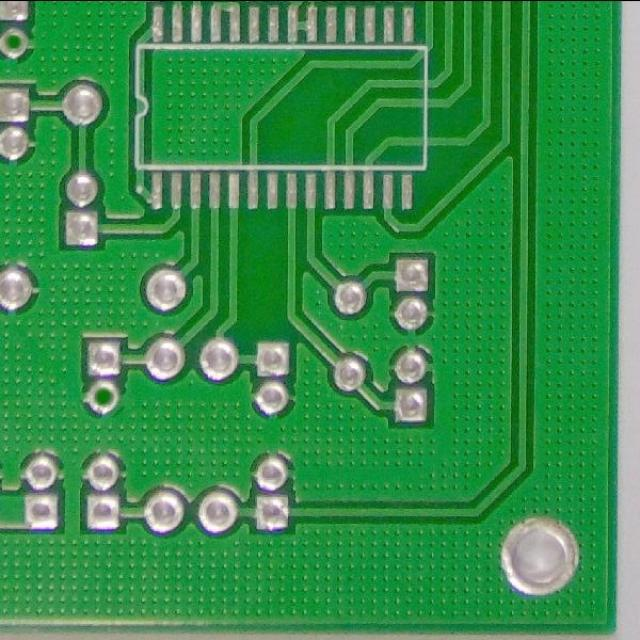Missing_Hole: (81, 377, 123, 417), (0, 24, 32, 61)
